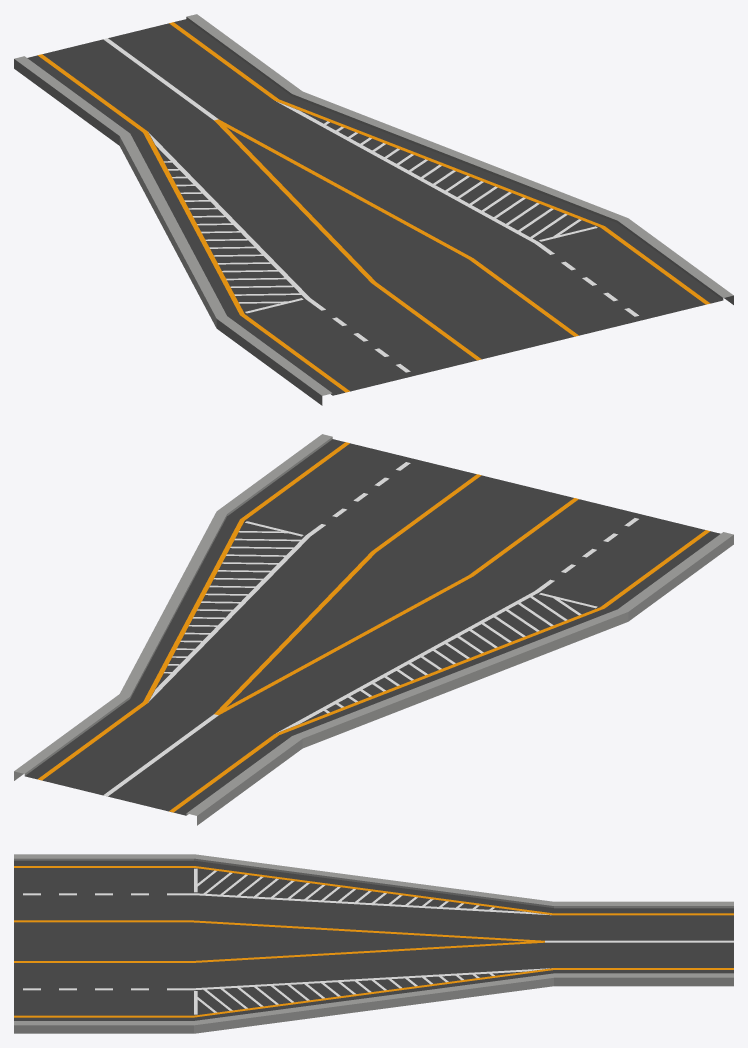
File: Road_A_2L_1_3.fbx
3 views of the same model, one above another, from view 1: azimuth 30°, elevation 25°; view 2: azimuth 150°, elevation 25°; view 3: azimuth 270°, elevation 25° (orthographic). The views are drawn at different scales.
Visible parts, largest first — view 1: Road_A_2L_1_3; view 2: Road_A_2L_1_3; view 3: Road_A_2L_1_3.
Boxes of the visible parts, x1,y1,x2,y2 form: Road_A_2L_1_3: (14, 14, 733, 405); Road_A_2L_1_3: (14, 434, 733, 825); Road_A_2L_1_3: (14, 854, 733, 1033).
Size of the model in its own units: 1800 by 41.48 by 3200.
